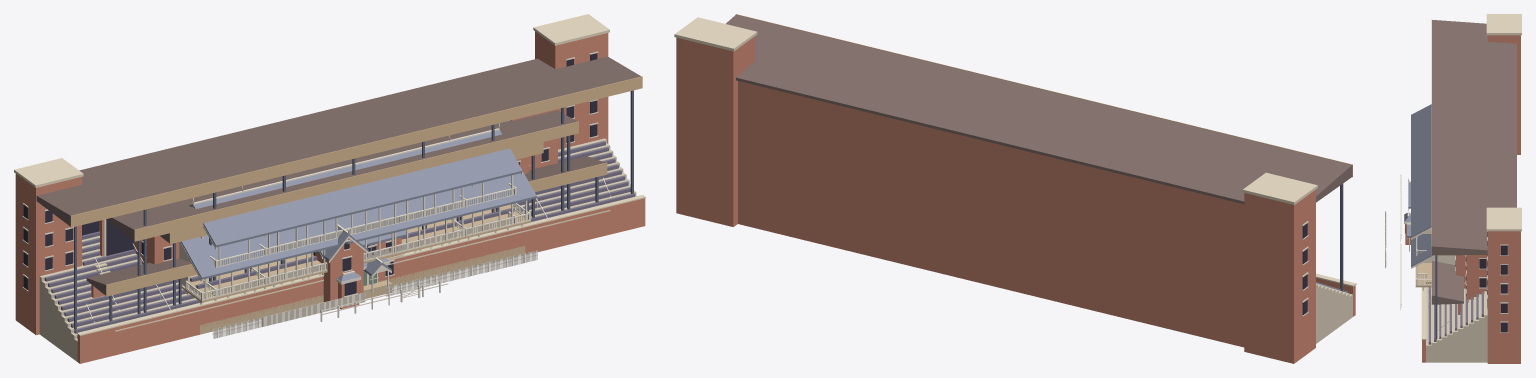
The model's file is july_stands.glb.
3 renders of one model, left to right at view 1: azimuth 30°, elevation 25°; view 2: azimuth 150°, elevation 25°; view 3: azimuth 270°, elevation 25°, orthographic. The views are drawn at different scales.
Parts seen in each view (by area): view 1: terrace_grand, old_pavilion, terrace_mid, pavilion_small, old_pavilion_wing, terrace_low, victorian_house, terrace_small; view 2: terrace_grand; view 3: terrace_grand, old_pavilion, terrace_low, terrace_mid, pavilion_small, old_pavilion_wing, victorian_house, terrace_small.
Part boxes in pixels (x1,y1,x2,y2): terrace_grand: (14,14,645,363); old_pavilion: (189,123,537,338); terrace_mid: (95,109,582,319); pavilion_small: (179,171,536,334); old_pavilion_wing: (242,135,473,326); terrace_low: (86,156,610,354); victorian_house: (313,224,448,321); terrace_small: (134,142,543,339); terrace_grand: (674,14,1356,363); terrace_grand: (1421,14,1521,363); old_pavilion: (1400,104,1431,309); terrace_low: (1428,261,1463,330); terrace_mid: (1426,255,1487,320); pavilion_small: (1411,234,1455,290); old_pavilion_wing: (1400,125,1431,244); victorian_house: (1385,177,1410,268); terrace_small: (1421,255,1466,302).
Bounding box in the file's own units: 81.3 × 22.45 × 20.63.
